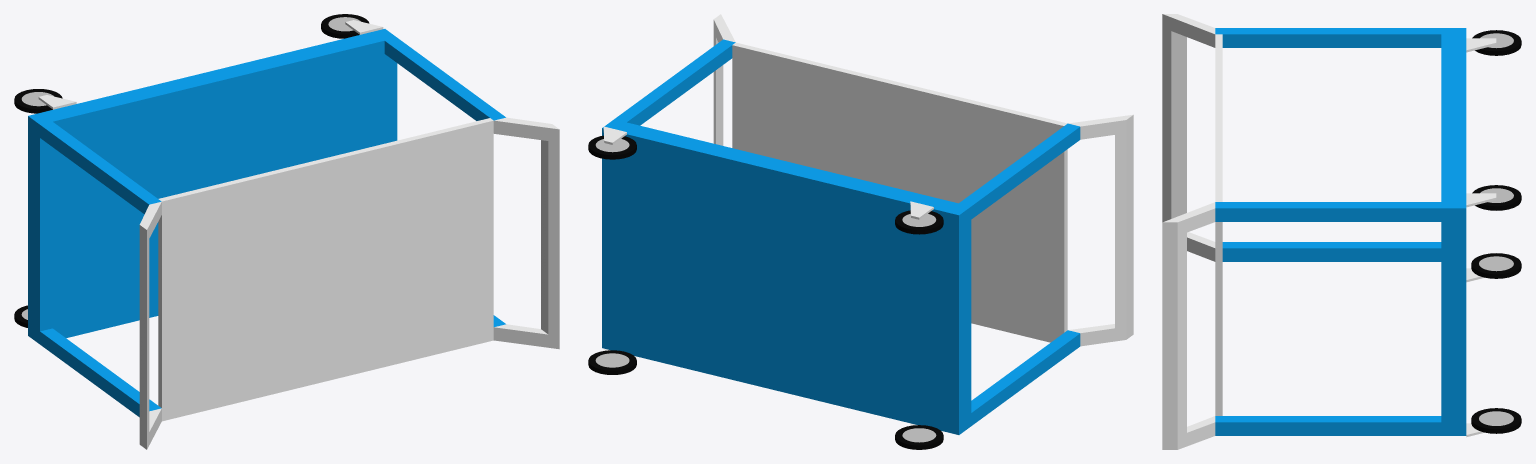
The model's file is trolley_3.dae.
The picture shows the model from 3 angles, left to right: view 1: azimuth 30°, elevation 25°; view 2: azimuth 150°, elevation 25°; view 3: azimuth 270°, elevation 25°; orthographic projection. The views are drawn at different scales.
Visible parts, largest first — view 1: coords_ME_ID51_MA_material, coords_ME_ID3_MA_material_3; view 2: coords_ME_ID3_MA_material_3, coords_ME_ID51_MA_material, coords_ME_ID19_MA_material_8, coords_ME_ID11_MA_material_8, coords_ME_ID31_MA_material_8, coords_ME_ID25_MA_material_8; view 3: coords_ME_ID3_MA_material_3, coords_ME_ID51_MA_material, coords_ME_ID11_MA_material_8, coords_ME_ID19_MA_material_8, coords_ME_ID31_MA_material_8, coords_ME_ID25_MA_material_8, coords_ME_ID131_MA_material_11, coords_ME_ID125_MA_material_11.
Boxes of the visible parts, bbox=[...] form: coords_ME_ID51_MA_material: bbox=[139, 117, 559, 449]; coords_ME_ID3_MA_material_3: bbox=[28, 29, 505, 417]; coords_ME_ID3_MA_material_3: bbox=[602, 39, 1080, 434]; coords_ME_ID51_MA_material: bbox=[713, 14, 1133, 346]; coords_ME_ID19_MA_material_8: bbox=[895, 425, 943, 449]; coords_ME_ID11_MA_material_8: bbox=[588, 350, 636, 374]; coords_ME_ID31_MA_material_8: bbox=[895, 210, 943, 234]; coords_ME_ID25_MA_material_8: bbox=[588, 135, 636, 159]; coords_ME_ID3_MA_material_3: bbox=[1215, 28, 1466, 435]; coords_ME_ID51_MA_material: bbox=[1162, 14, 1222, 449]; coords_ME_ID11_MA_material_8: bbox=[1471, 408, 1521, 433]; coords_ME_ID19_MA_material_8: bbox=[1471, 253, 1521, 278]; coords_ME_ID31_MA_material_8: bbox=[1472, 30, 1521, 55]; coords_ME_ID25_MA_material_8: bbox=[1472, 185, 1521, 210]; coords_ME_ID131_MA_material_11: bbox=[1479, 411, 1513, 425]; coords_ME_ID125_MA_material_11: bbox=[1479, 256, 1513, 271].
Bounding box in the file's own units: 15.47 × 8.03 × 11.26.
